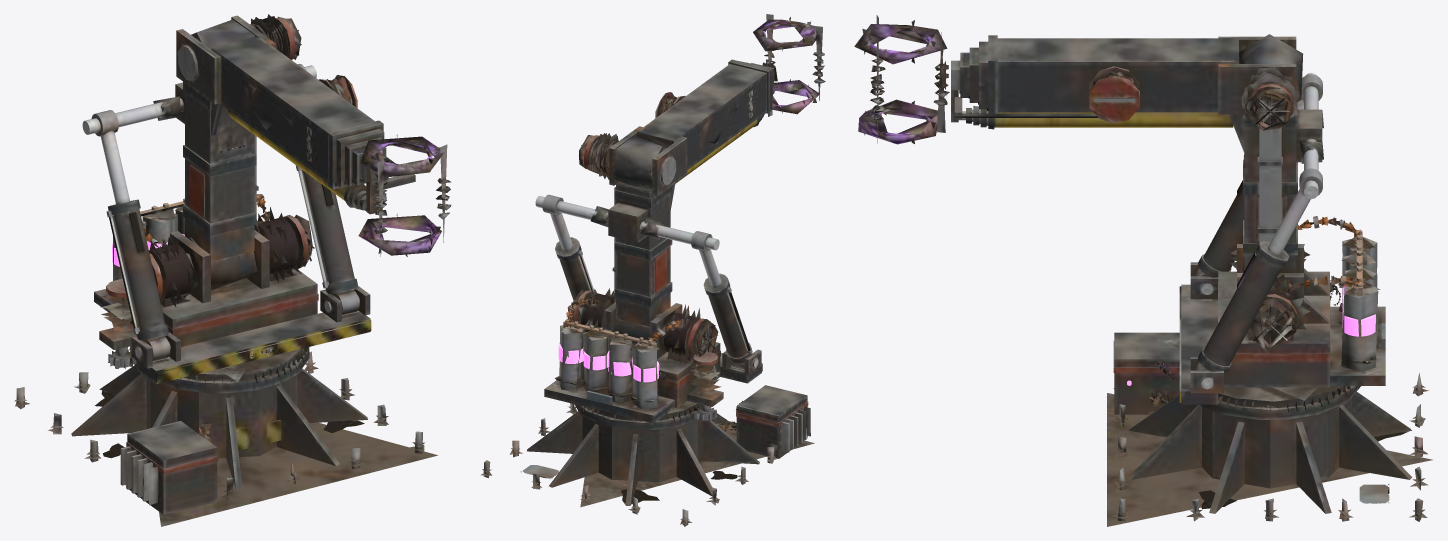
The model's file is braco_quantico.glb.
The picture shows the model from 3 angles, left to right: view 1: azimuth 30°, elevation 25°; view 2: azimuth 150°, elevation 25°; view 3: azimuth 270°, elevation 25°; orthographic projection. The views are drawn at different scales.
Parts seen in each view (by area): view 1: braco_quantico_base, braco_quantico_ponta, braco_quantico_lanca1, braco_quantico_lanca4, braco_quantico_lanca2, braco_quantico_carretel, braco_quantico_lanca3; view 2: braco_quantico_base, braco_quantico_ponta, quantico_giro_cap_v; view 3: braco_quantico_base, braco_quantico_ponta, braco_quantico_carretel, braco_quantico_lanca1, braco_quantico_cabo, braco_quantico_lanca2, braco_quantico_lanca4.
Boxes of the visible parts, x1,y1,x2,y2 form: braco_quantico_base: (14,14,437,526); braco_quantico_ponta: (358,134,451,256); braco_quantico_lanca1: (336,129,384,209); braco_quantico_lanca4: (362,156,415,214); braco_quantico_lanca2: (345,137,382,210); braco_quantico_carretel: (319,75,357,107); braco_quantico_lanca3: (352,147,386,210); braco_quantico_base: (480,59,814,526); braco_quantico_ponta: (753,14,825,116); quantico_giro_cap_v: (558,344,659,382); braco_quantico_base: (987,34,1432,526); braco_quantico_ponta: (854,15,949,144); braco_quantico_carretel: (1089,66,1139,123); braco_quantico_lanca1: (978,41,988,127); braco_quantico_cabo: (954,113,1098,117); braco_quantico_lanca2: (968,47,980,125); braco_quantico_lanca4: (951,60,965,122).
Bounding box in the file's own units: 0.89 × 1.28 × 1.56.
Materials: 2 (1 with a texture image).
